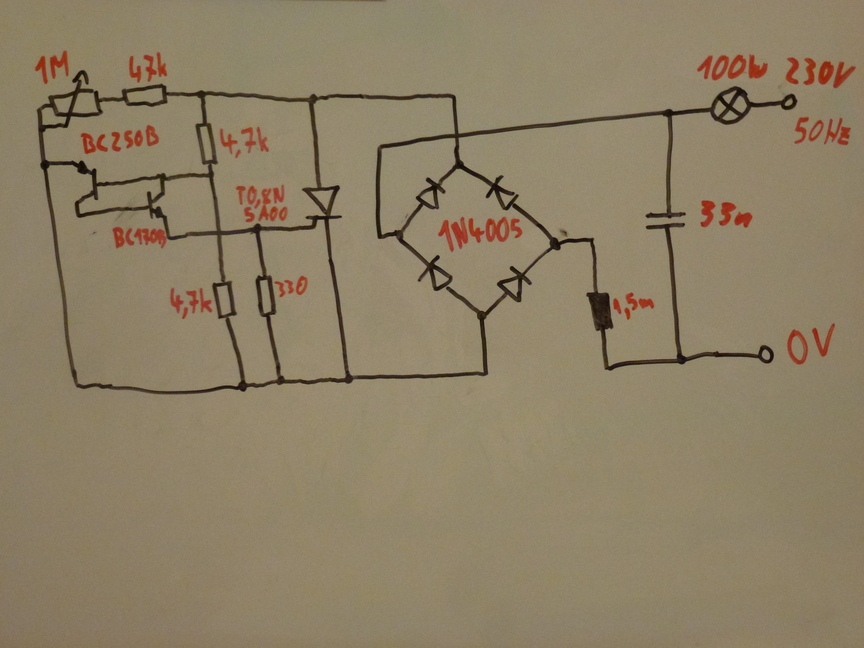capacitor.unpolarized: (642, 202, 689, 239)
crossover: (210, 227, 228, 241), (450, 128, 465, 143)
diode: (413, 254, 458, 295), (481, 173, 522, 212), (496, 264, 534, 304), (411, 175, 449, 213)
inductor: (583, 287, 615, 333)
junction: (337, 368, 359, 390), (543, 235, 565, 254), (471, 307, 491, 322), (477, 364, 493, 382), (272, 373, 290, 389), (232, 378, 250, 394), (248, 222, 264, 239), (194, 86, 210, 102), (154, 170, 171, 185), (450, 158, 467, 173), (661, 105, 678, 120), (673, 352, 689, 367), (37, 157, 53, 172), (68, 378, 84, 393), (305, 92, 320, 107), (446, 89, 462, 103), (393, 225, 406, 242), (372, 141, 387, 154), (600, 361, 613, 374), (34, 122, 47, 135), (585, 234, 598, 246), (32, 102, 45, 114), (206, 169, 219, 180), (73, 210, 85, 221), (374, 230, 384, 243), (164, 232, 174, 243)
lamp: (709, 85, 752, 125)
resistor: (116, 81, 175, 109), (209, 276, 240, 325), (250, 269, 280, 319), (193, 118, 220, 166)
resistor.adjustable: (47, 69, 104, 132)
terminal: (756, 343, 776, 366), (778, 92, 801, 112)
text: (438, 214, 524, 252), (782, 53, 857, 92), (783, 321, 840, 367), (693, 51, 770, 84), (80, 124, 160, 155), (233, 181, 291, 222), (792, 114, 853, 150), (696, 197, 757, 233), (217, 124, 271, 158), (165, 285, 213, 319), (110, 224, 168, 251), (30, 48, 71, 84), (126, 49, 169, 83), (611, 291, 657, 320), (274, 274, 311, 298)
thyristor: (300, 181, 345, 233)
transistor: (70, 158, 102, 205), (143, 188, 169, 221)
